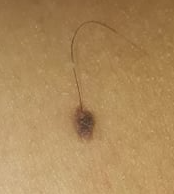Normal: (73, 108, 95, 139)
